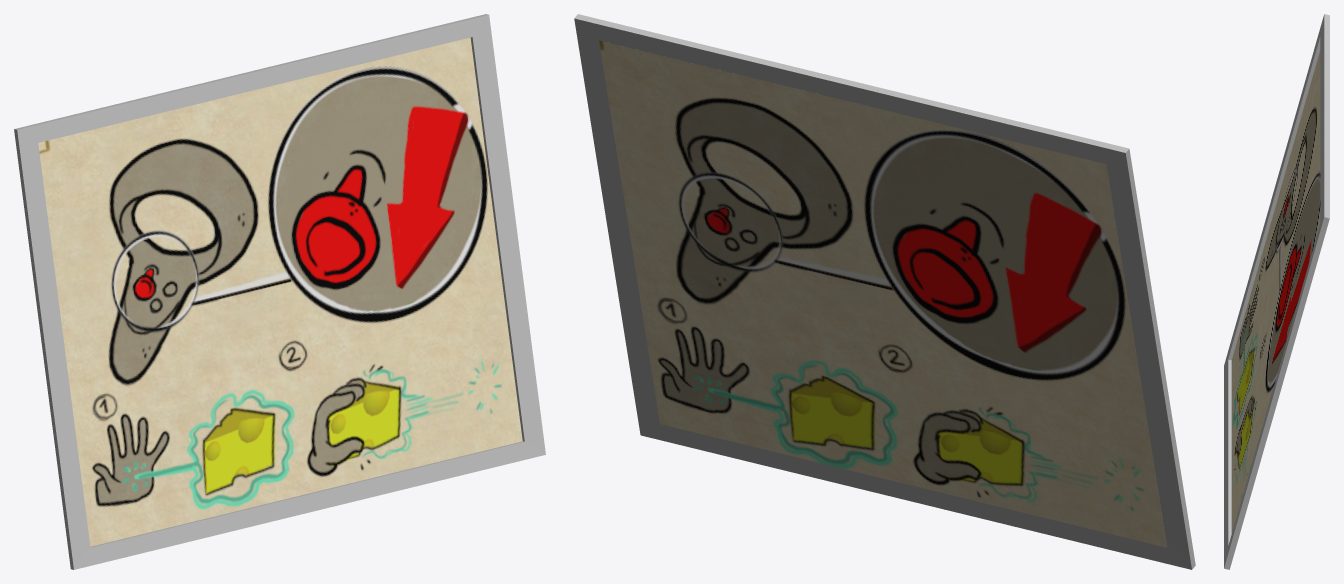
The model's file is InstructionsTelekinesis.FBX.
3 renders of one model, left to right at view 1: azimuth 30°, elevation 25°; view 2: azimuth 150°, elevation 25°; view 3: azimuth 270°, elevation 25°, orthographic. The views are drawn at different scales.
Visible parts, largest first — view 1: ForceInstructions; view 2: ForceInstructions; view 3: ForceInstructions.
Part boxes in pixels (left/top/right/bottom): ForceInstructions: left=14, top=14, right=545, bottom=569; ForceInstructions: left=574, top=14, right=1195, bottom=569; ForceInstructions: left=1224, top=14, right=1329, bottom=569.
Bounding box in the file's own units: 78.04 × 63.18 × 17.18.
